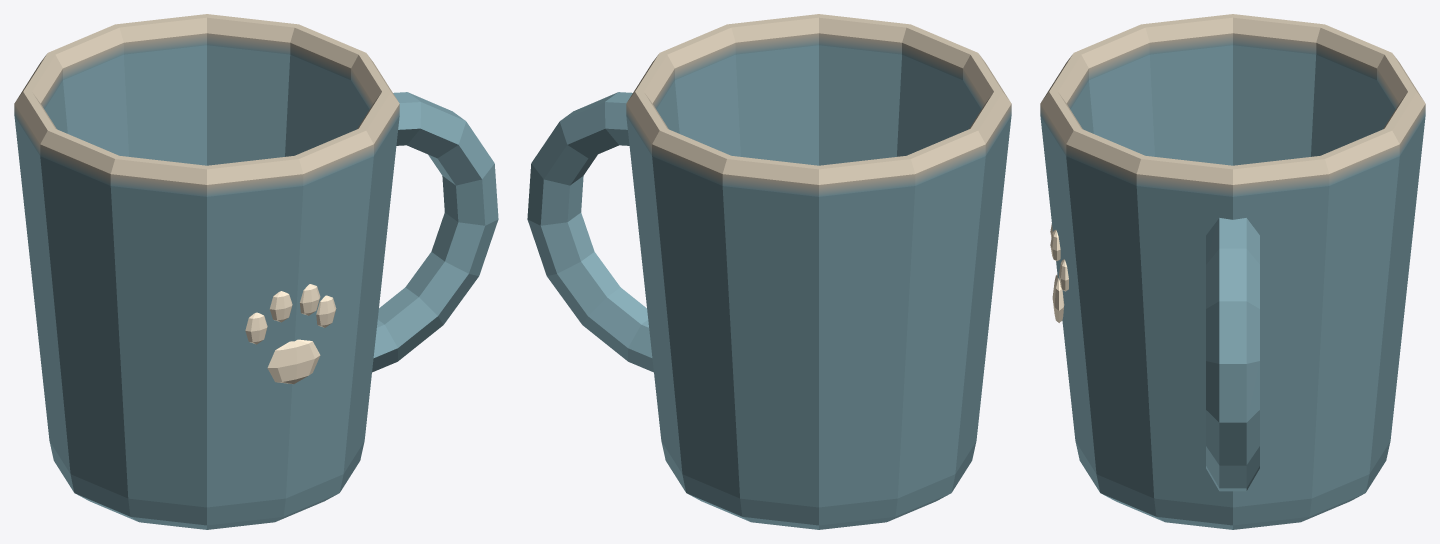
File: mug.glb
The picture shows the model from 3 angles, left to right: view 1: azimuth 30°, elevation 25°; view 2: azimuth 150°, elevation 25°; view 3: azimuth 270°, elevation 25°; orthographic projection.
Visible parts, largest first — view 1: Ceramic body, rolled rim, inner bowl and solid handle, Raised paw emblem; view 2: Ceramic body, rolled rim, inner bowl and solid handle; view 3: Ceramic body, rolled rim, inner bowl and solid handle, Raised paw emblem.
Part boxes in pixels (left/top/right/bottom): Ceramic body, rolled rim, inner bowl and solid handle: left=14, top=14, right=498, bottom=529; Raised paw emblem: left=245, top=284, right=336, bottom=384; Ceramic body, rolled rim, inner bowl and solid handle: left=527, top=14, right=1011, bottom=529; Ceramic body, rolled rim, inner bowl and solid handle: left=1040, top=14, right=1425, bottom=529; Raised paw emblem: left=1050, top=223, right=1068, bottom=322.
Bounding box in the file's own units: 0.1191 × 0.096 × 0.088.
